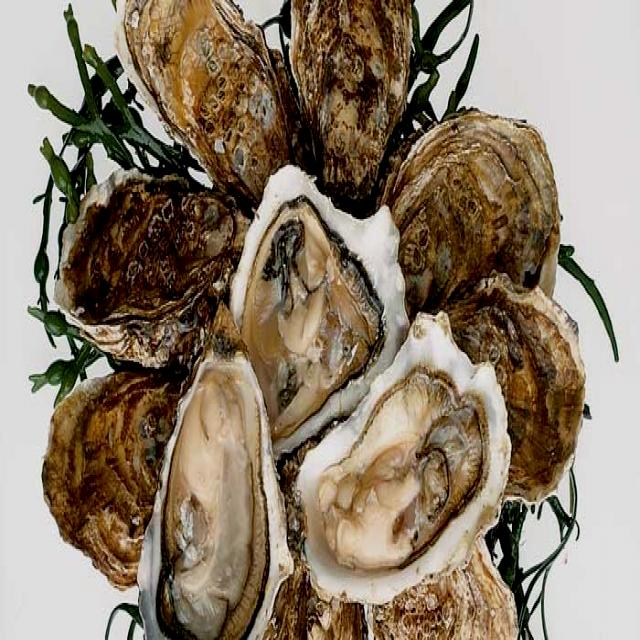Oyster-Closed: (114, 0, 320, 210), (53, 177, 252, 367), (381, 110, 563, 297), (441, 274, 587, 506), (41, 367, 189, 591), (283, 0, 416, 204), (346, 540, 552, 640), (260, 547, 364, 640)
Oyster-Open: (294, 317, 511, 609), (231, 166, 408, 468), (155, 359, 294, 640)
